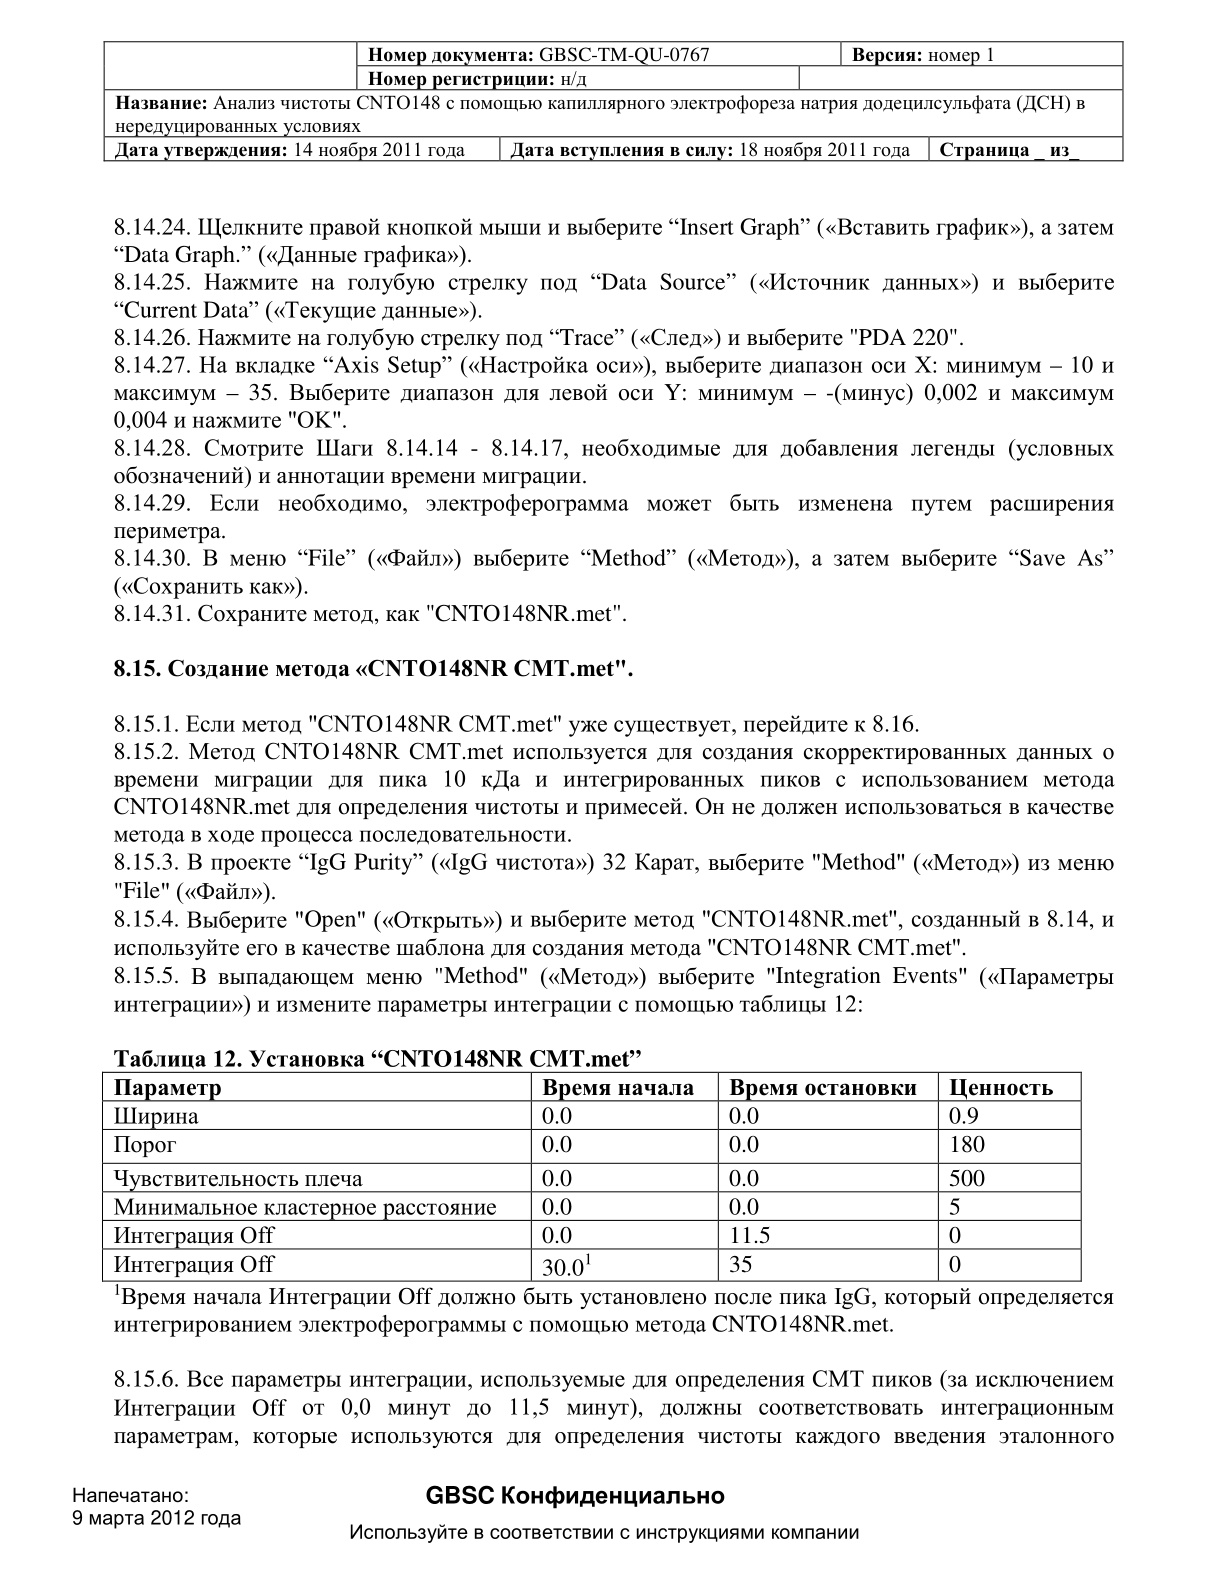full_lined: (102, 1070, 1083, 1283)
merged_cells: (102, 39, 1125, 163)
